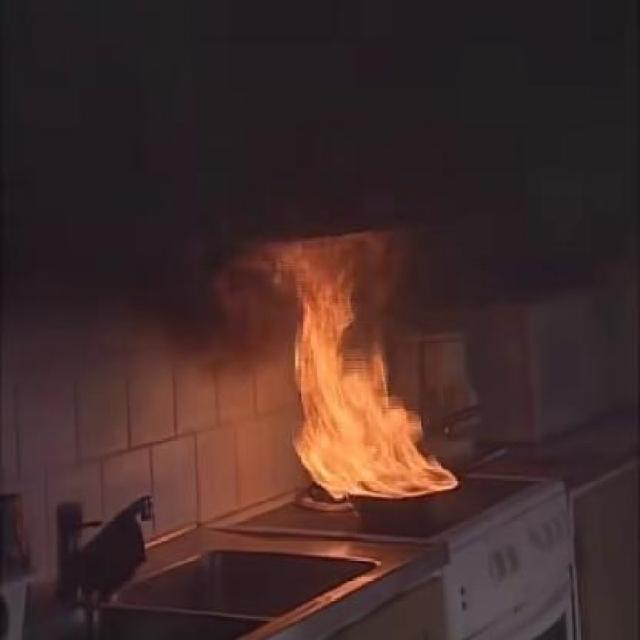fire: (276, 247, 455, 498)
